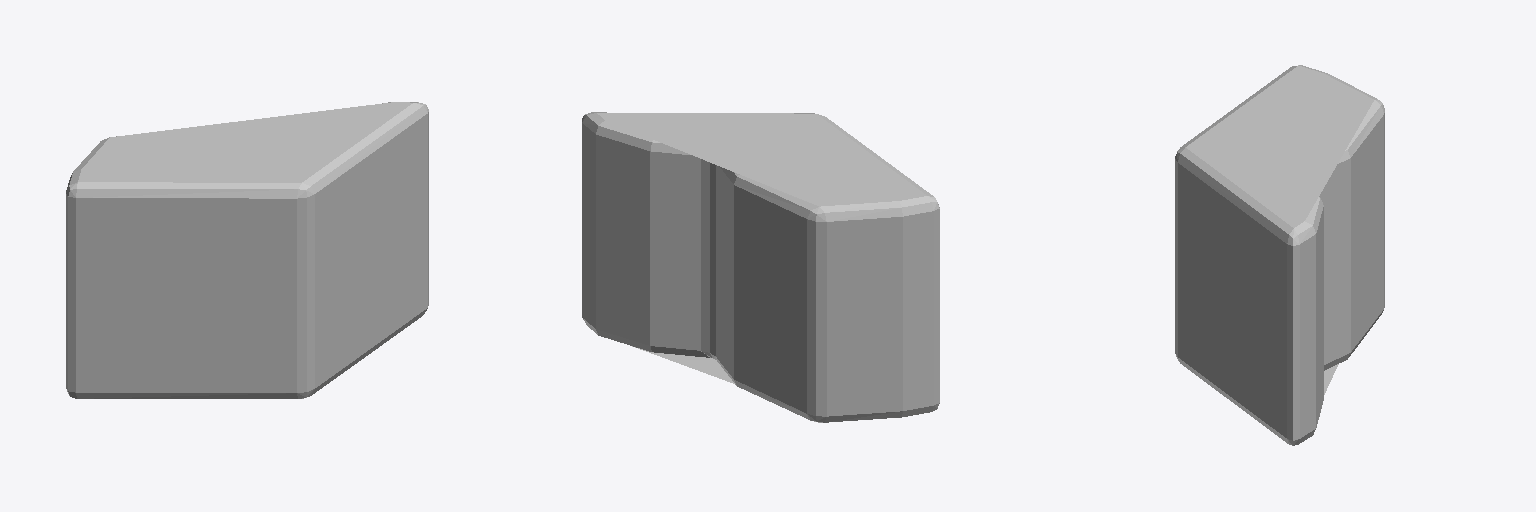
Rendered from grass_border3.obj.
The picture shows the model from 3 angles: view 1: azimuth 30°, elevation 25°; view 2: azimuth 150°, elevation 25°; view 3: azimuth 270°, elevation 25°; orthographic projection.
Visible parts, largest first — view 1: grass_border3; view 2: grass_border3; view 3: grass_border3.
Part boxes in pixels (left/top/right/bottom): grass_border3: left=66, top=102, right=428, bottom=398; grass_border3: left=582, top=112, right=939, bottom=422; grass_border3: left=1175, top=65, right=1384, bottom=445.
Bounding box in the file's own units: 6.96 × 4 × 3.53.